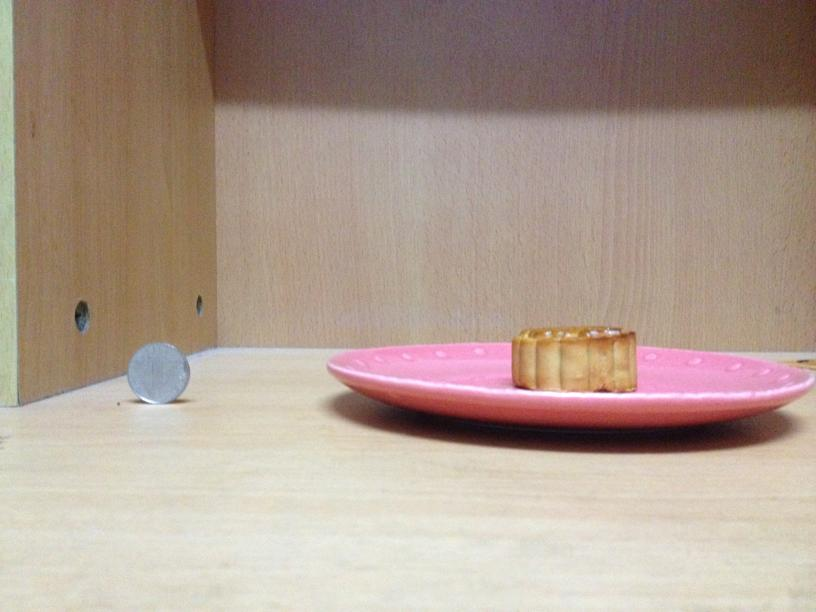coin: (125, 340, 190, 404)
mooncake: (512, 325, 638, 392)
